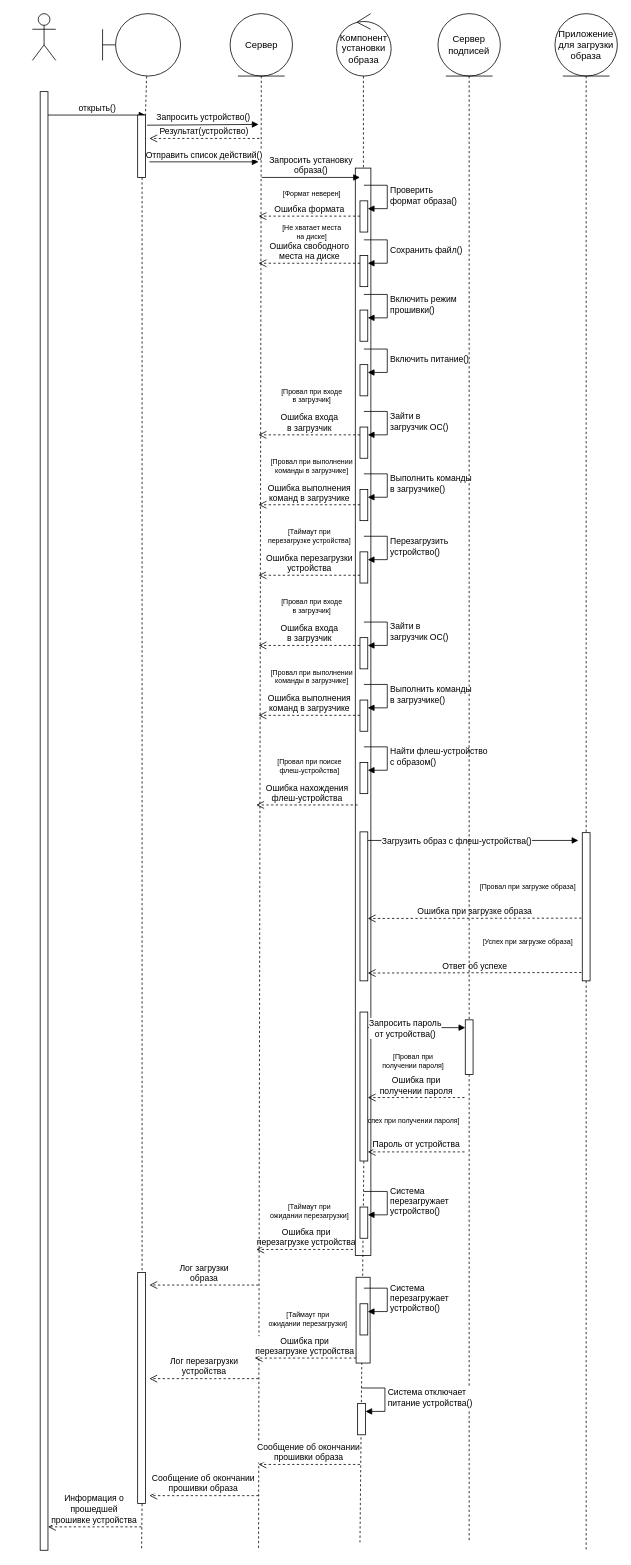
This 631x1565 diagram has some shape labels left out. Each missing label, with the centre of its shape:
Пользователь: the point at 44,36
Страница загрузки образа: the point at 141,44
